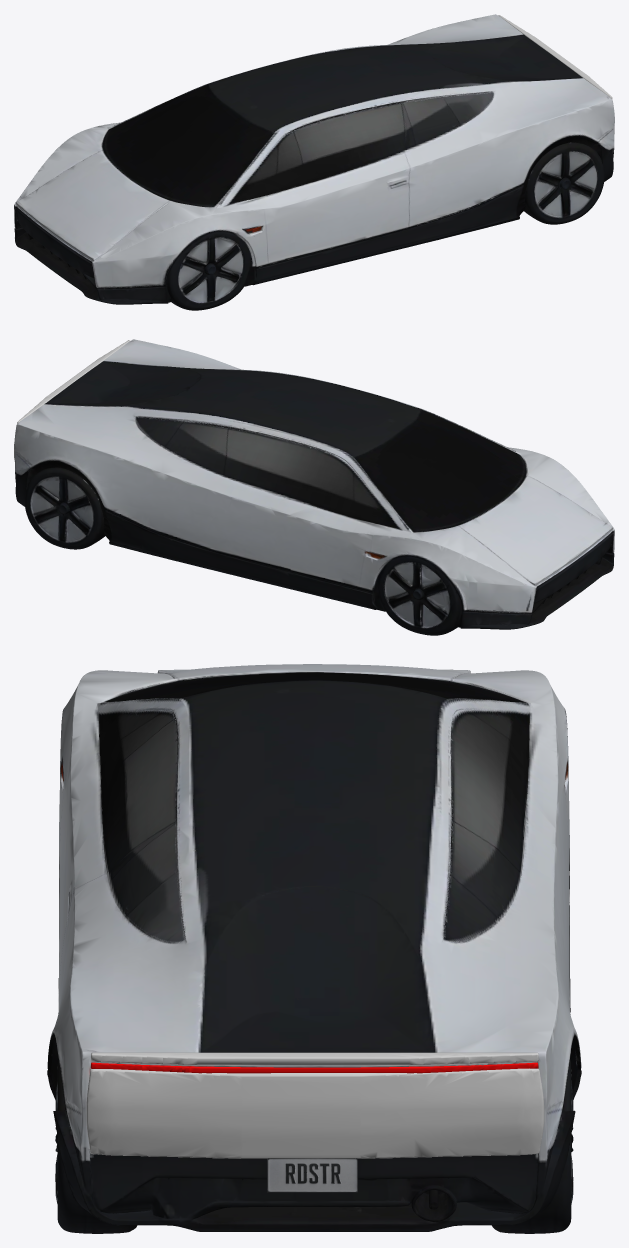
Rendered from roadster.glb.
The picture shows the model from 3 angles, top to bottom: view 1: azimuth 30°, elevation 25°; view 2: azimuth 150°, elevation 25°; view 3: azimuth 270°, elevation 25°; orthographic projection. The views are drawn at different scales.
Parts seen in each view (by area): view 1: Object_2, Object_9; view 2: Object_2, Object_9; view 3: Object_2, Object_9, Object_11, Object_8.
Part boxes in pixels (box(x1,y1,x2,y2)): Object_2: box(14, 14, 614, 310); Object_9: box(498, 15, 614, 133); Object_2: box(14, 339, 614, 635); Object_9: box(14, 340, 130, 461); Object_2: box(47, 664, 581, 1233); Object_9: box(86, 1052, 544, 1158); Object_11: box(267, 1158, 357, 1192); Object_8: box(91, 1062, 538, 1073).
Size of the model in its own units: 66.58 by 18.05 by 30.1.
Materials: 5 (5 with a texture image).
